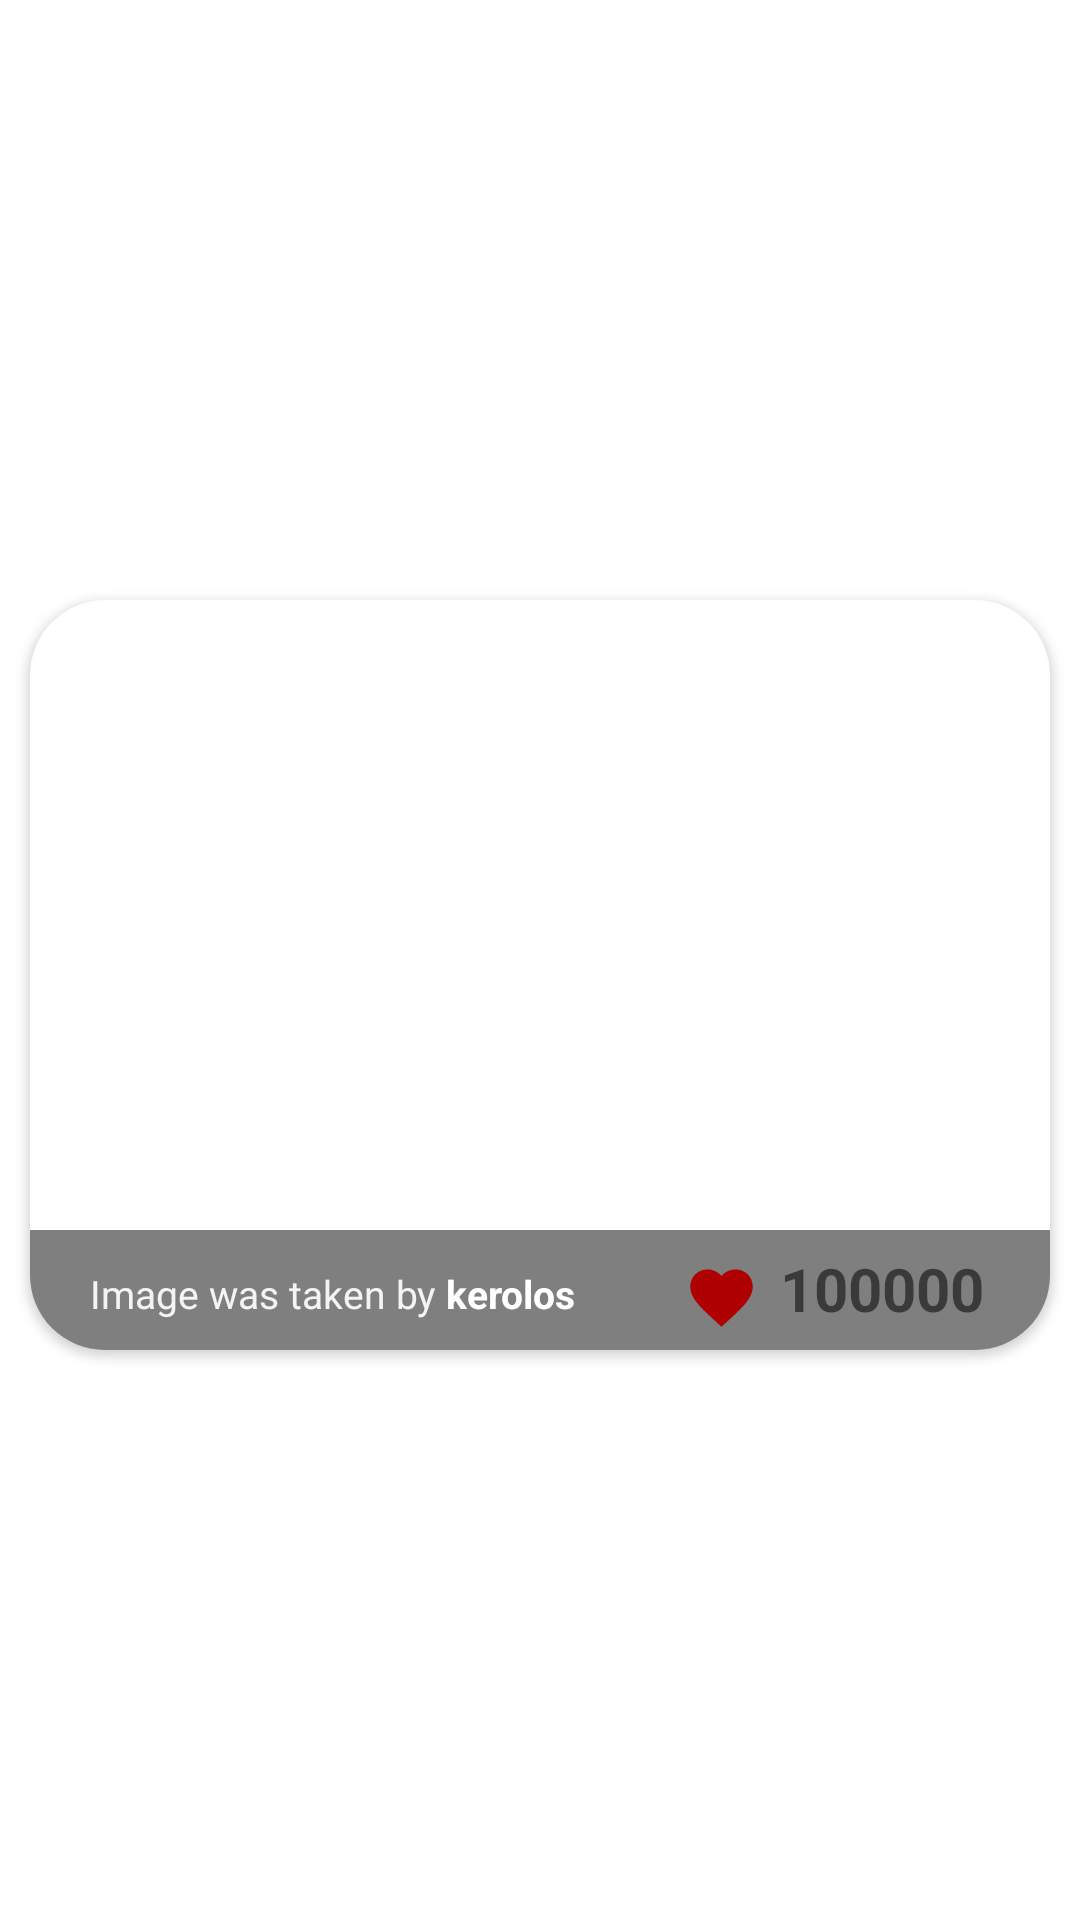

Icons on this 1080 × 1920 Android screen, each with the point to tap as (x=x, y=y):
favourite: (x=721, y=1298)
